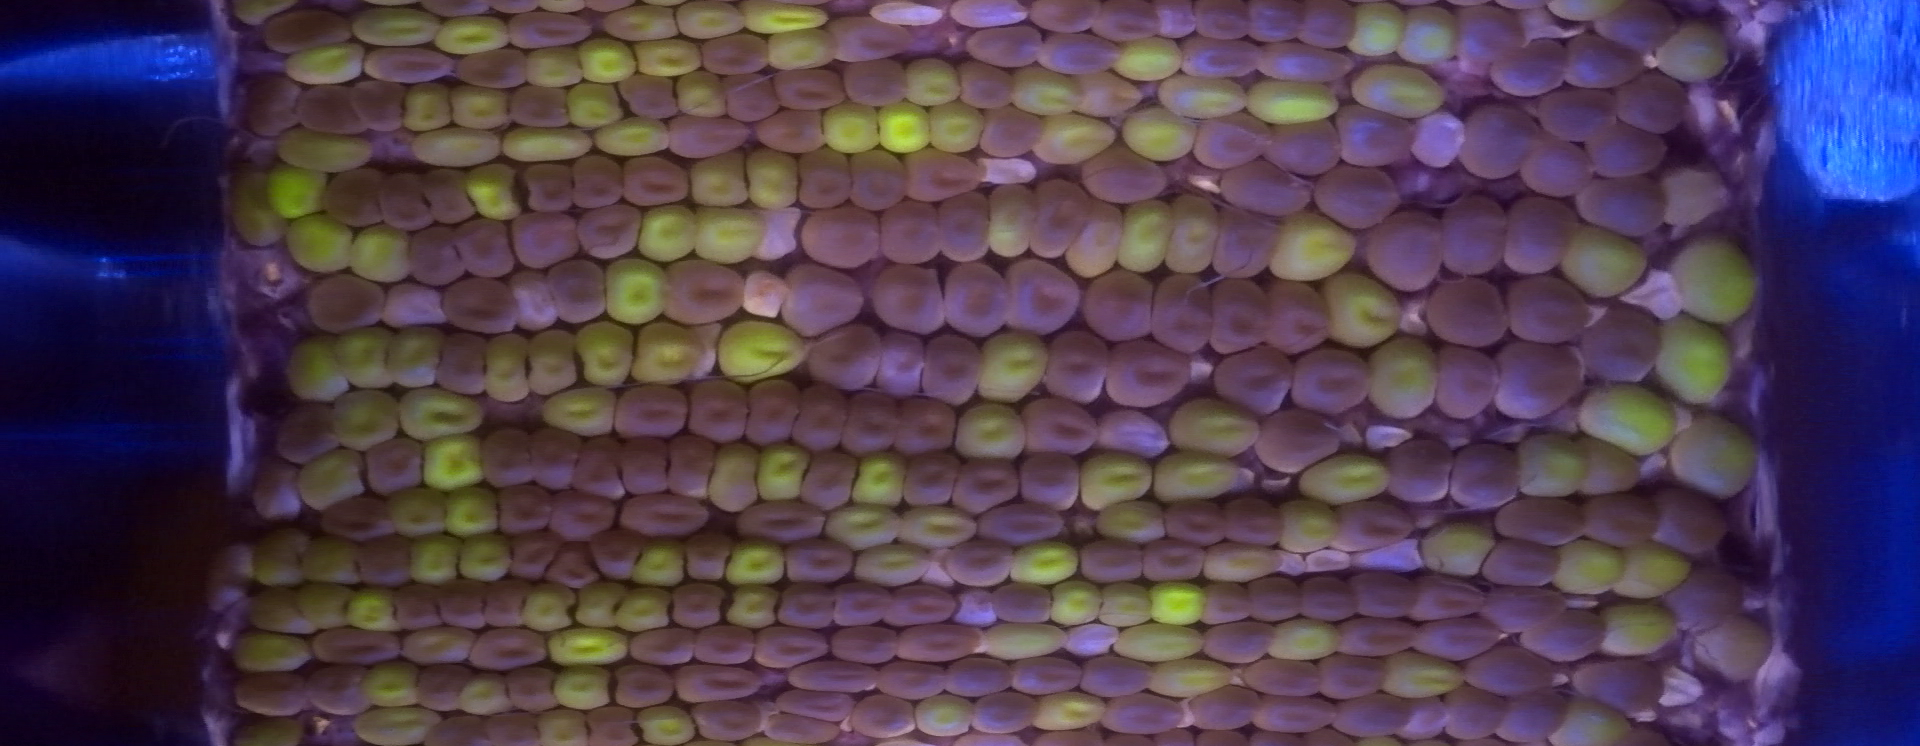fluorescent: (1570, 375, 1690, 456), (1671, 241, 1761, 323), (1674, 412, 1760, 495), (1318, 274, 1408, 352), (1662, 318, 1734, 407), (1561, 220, 1651, 292), (713, 321, 812, 382), (1367, 336, 1440, 416), (1062, 452, 1160, 511), (1351, 60, 1450, 116), (1271, 212, 1358, 274), (976, 334, 1051, 407), (1696, 612, 1773, 679), (1289, 456, 1395, 503), (283, 334, 359, 401), (1141, 451, 1250, 496), (285, 211, 361, 276), (1119, 100, 1201, 160), (396, 386, 491, 437), (1037, 110, 1116, 171), (1659, 21, 1731, 87), (533, 385, 621, 439), (1515, 432, 1582, 502), (279, 127, 380, 174), (1247, 77, 1344, 124), (1594, 603, 1682, 654), (600, 256, 666, 325), (689, 205, 768, 262), (343, 222, 416, 283), (1558, 534, 1632, 594), (542, 622, 631, 673), (418, 434, 493, 491), (576, 321, 640, 387), (266, 153, 331, 219), (638, 317, 700, 386), (1375, 654, 1469, 699), (224, 171, 283, 244), (382, 323, 447, 388), (1613, 541, 1689, 597), (495, 122, 601, 162), (1168, 194, 1220, 274), (1416, 517, 1491, 571), (323, 390, 400, 442), (1160, 76, 1251, 120), (440, 481, 504, 543), (634, 203, 700, 263), (823, 499, 901, 549), (899, 499, 980, 546), (233, 630, 321, 673), (1111, 39, 1194, 85), (549, 659, 618, 713), (984, 184, 1035, 258), (1120, 200, 1171, 274), (524, 330, 584, 392), (280, 40, 370, 82), (709, 445, 764, 512), (407, 125, 501, 164), (1109, 622, 1206, 660), (744, 147, 803, 209), (481, 334, 533, 405), (1007, 543, 1091, 586), (959, 404, 1027, 457), (1400, 6, 1460, 66), (337, 331, 396, 392), (1093, 578, 1163, 630), (1346, 6, 1411, 61), (301, 448, 366, 503), (1544, 701, 1622, 746), (1007, 66, 1079, 115), (351, 9, 444, 47), (758, 441, 812, 506), (816, 99, 882, 152), (253, 522, 307, 586), (1089, 500, 1171, 541), (467, 162, 527, 218), (851, 539, 924, 584), (251, 587, 318, 636), (563, 81, 626, 134), (351, 706, 441, 742), (746, 1, 841, 36), (1266, 617, 1349, 657), (1276, 496, 1338, 548), (360, 657, 425, 706), (1151, 657, 1232, 696), (627, 37, 708, 76), (601, 2, 684, 40), (692, 153, 752, 206), (1033, 691, 1107, 734), (726, 539, 789, 589), (987, 621, 1064, 661), (899, 56, 964, 104), (852, 454, 912, 506), (451, 81, 512, 131), (453, 529, 512, 581), (298, 534, 362, 581), (460, 668, 520, 717), (763, 31, 839, 69), (407, 532, 460, 584), (433, 15, 511, 51), (673, 1, 751, 38), (879, 100, 934, 152), (927, 103, 984, 152), (1049, 579, 1109, 626), (577, 581, 629, 633), (350, 584, 402, 638), (913, 696, 976, 740), (525, 40, 587, 85), (636, 537, 691, 586), (636, 702, 697, 746), (726, 586, 784, 632), (389, 488, 448, 533), (594, 118, 666, 154), (580, 34, 633, 83), (613, 588, 673, 630), (300, 586, 356, 630), (524, 588, 580, 631), (1147, 584, 1206, 625), (404, 85, 454, 129), (675, 76, 724, 120), (534, 707, 587, 746), (231, 722, 309, 746), (227, 1, 309, 20)
nonfluorescent: (1578, 303, 1668, 382), (1413, 274, 1515, 343), (1491, 345, 1586, 415), (1502, 187, 1577, 274), (1575, 173, 1675, 236), (793, 205, 885, 273), (1103, 337, 1198, 403), (869, 263, 953, 337), (1003, 262, 1085, 336), (1078, 268, 1162, 339), (787, 258, 867, 333), (1500, 273, 1591, 338), (1457, 105, 1538, 178), (1258, 409, 1343, 477), (1442, 197, 1513, 278), (1308, 164, 1404, 223), (1430, 341, 1502, 419), (1371, 211, 1441, 292), (1335, 108, 1420, 173), (1078, 147, 1176, 203), (662, 258, 746, 323), (1573, 118, 1671, 173), (1444, 439, 1518, 511), (1609, 67, 1690, 134), (811, 318, 880, 394), (940, 262, 1011, 336), (1573, 658, 1668, 713), (1523, 83, 1618, 138), (1151, 273, 1217, 352), (1078, 533, 1163, 593), (1385, 436, 1453, 511), (306, 274, 393, 333), (1222, 160, 1319, 213), (1209, 273, 1269, 356), (1653, 491, 1733, 554), (1518, 610, 1616, 659), (1262, 279, 1333, 347), (447, 216, 522, 279), (1288, 353, 1376, 407), (442, 276, 518, 338), (1597, 1, 1680, 58), (1209, 347, 1292, 403), (1092, 404, 1176, 461), (1526, 132, 1596, 198), (929, 187, 993, 260), (542, 261, 610, 328), (891, 396, 962, 459), (1044, 334, 1108, 405), (1667, 567, 1740, 628), (1253, 42, 1360, 83), (1024, 178, 1080, 257), (1019, 396, 1093, 456), (1487, 43, 1571, 96), (658, 111, 753, 158), (827, 13, 916, 62), (1576, 494, 1660, 545), (269, 404, 347, 461), (1189, 111, 1275, 162), (1564, 34, 1643, 88), (923, 334, 986, 403), (846, 151, 915, 213), (1213, 209, 1275, 279), (956, 24, 1053, 69), (509, 208, 582, 267), (1333, 502, 1418, 552), (573, 202, 647, 260), (780, 529, 853, 587), (295, 85, 373, 138), (688, 381, 754, 445), (238, 76, 306, 137), (1262, 118, 1340, 171), (618, 153, 696, 207), (542, 485, 623, 537), (902, 151, 989, 198), (790, 147, 857, 208), (1479, 538, 1567, 584), (620, 492, 713, 537), (1487, 586, 1576, 631), (740, 376, 800, 443), (609, 432, 676, 492), (947, 463, 1025, 514), (671, 664, 774, 703), (660, 431, 713, 507), (1458, 650, 1551, 693), (738, 499, 831, 541), (976, 506, 1071, 548), (313, 626, 411, 666), (1496, 497, 1583, 543), (613, 388, 692, 439), (880, 202, 943, 265), (376, 171, 438, 234), (480, 424, 544, 485), (523, 423, 583, 488), (1348, 565, 1420, 619), (1442, 684, 1509, 742), (1018, 457, 1084, 516), (322, 168, 389, 225), (890, 621, 983, 663), (1179, 32, 1262, 78), (1033, 32, 1127, 73), (1456, 9, 1526, 64), (260, 11, 358, 50), (320, 495, 398, 544), (1104, 692, 1191, 736), (470, 626, 557, 670), (1331, 612, 1420, 655), (1308, 653, 1392, 698), (306, 664, 378, 717), (975, 108, 1054, 156), (227, 668, 312, 712), (345, 75, 409, 134), (403, 225, 468, 283), (362, 47, 460, 85), (359, 439, 427, 492), (770, 64, 853, 108), (803, 448, 860, 513), (756, 104, 828, 154), (940, 537, 1016, 584), (1416, 617, 1502, 659), (773, 685, 860, 726), (1074, 653, 1156, 697), (902, 450, 962, 510), (433, 333, 495, 392), (1253, 692, 1337, 734), (1331, 693, 1413, 736), (793, 386, 849, 450), (752, 624, 831, 668), (1005, 658, 1089, 699), (830, 624, 909, 668), (568, 156, 627, 213), (249, 461, 302, 523), (1188, 685, 1260, 731), (493, 483, 557, 535), (451, 49, 533, 89), (518, 158, 576, 216), (418, 169, 478, 223), (356, 535, 418, 588), (698, 33, 778, 73), (1239, 655, 1321, 695), (604, 663, 678, 706), (503, 272, 558, 330), (874, 663, 953, 703), (1221, 496, 1291, 541), (1501, 695, 1562, 746), (414, 661, 475, 713), (853, 693, 921, 740), (846, 393, 895, 457), (503, 13, 598, 47), (759, 710, 853, 744), (686, 697, 763, 737), (945, 658, 1020, 699), (967, 693, 1037, 737), (877, 332, 923, 398), (1160, 503, 1231, 546), (504, 85, 576, 127), (629, 628, 700, 671), (621, 73, 684, 121), (573, 437, 621, 501), (722, 72, 782, 122), (1206, 619, 1273, 663), (504, 529, 558, 584), (787, 660, 880, 692), (676, 528, 733, 579), (538, 544, 602, 589), (778, 583, 842, 628), (842, 61, 911, 104), (883, 588, 955, 628), (1249, 1, 1313, 47), (435, 575, 482, 635), (1021, 1, 1104, 36), (1141, 537, 1202, 583), (1102, 1, 1168, 44), (989, 581, 1056, 624), (583, 529, 640, 578), (1408, 577, 1476, 619), (500, 666, 560, 713), (206, 548, 256, 603), (389, 579, 446, 628), (1299, 573, 1353, 624), (961, 62, 1019, 109), (1194, 1, 1256, 44), (696, 624, 758, 666), (838, 579, 898, 624), (673, 581, 727, 628), (484, 578, 531, 632), (1248, 578, 1300, 621), (1145, 1, 1201, 40), (1404, 693, 1449, 742), (869, 2, 945, 31), (587, 706, 643, 744), (940, 1, 1032, 24), (422, 715, 490, 746), (1199, 581, 1253, 619), (485, 710, 542, 746), (951, 730, 1029, 746), (1033, 733, 1109, 746)
